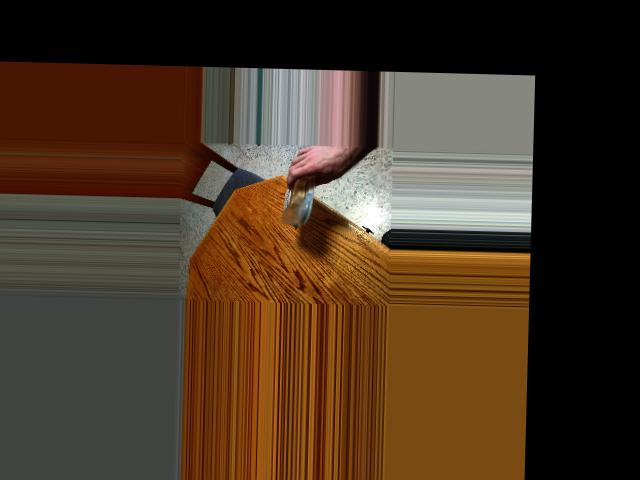cheese: (270, 159, 340, 227)
